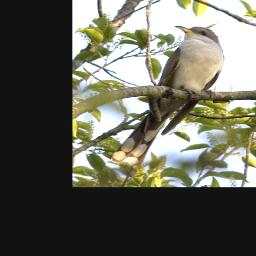Cuckoo: (111, 25, 225, 166)
